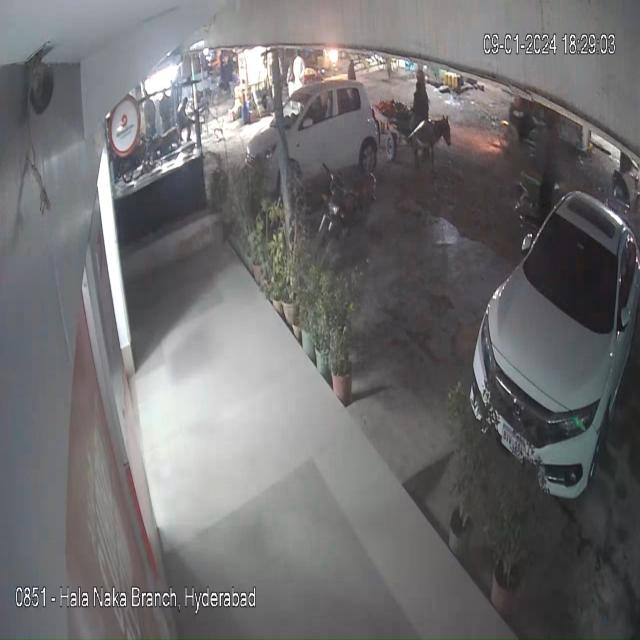Car: (470, 174, 640, 517), (245, 82, 396, 200)
Motorcycle: (308, 153, 375, 261)
